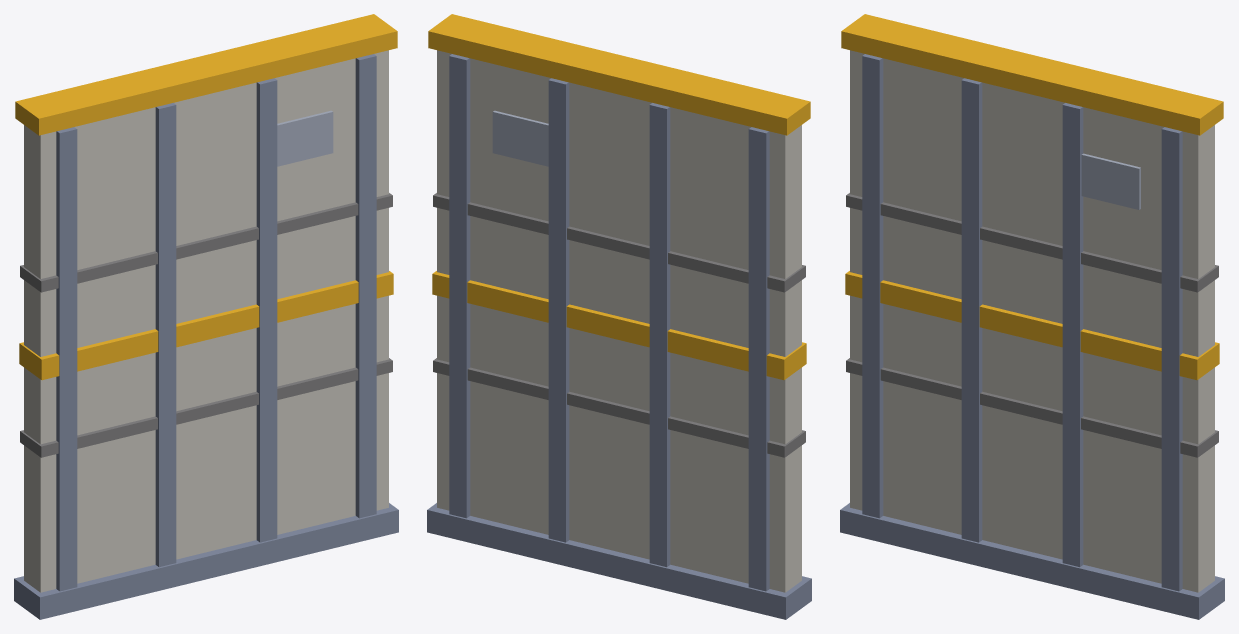
Rendered from wall_high.glb.
3 renders of one model, left to right at view 1: azimuth 30°, elevation 25°; view 2: azimuth 150°, elevation 25°; view 3: azimuth 330°, elevation 25°, orthographic.
Parts seen in each view (by area): view 1: wall_high; view 2: wall_high; view 3: wall_high.
Boxes of the visible parts, left/top/right/bottom form: wall_high: left=14, top=14, right=398, bottom=619; wall_high: left=427, top=14, right=811, bottom=619; wall_high: left=840, top=14, right=1224, bottom=619.
Bounding box in the file's own units: 2 × 2.66 × 0.25.
